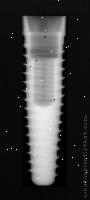Blue Sky Bio: (17, 15, 67, 187)
